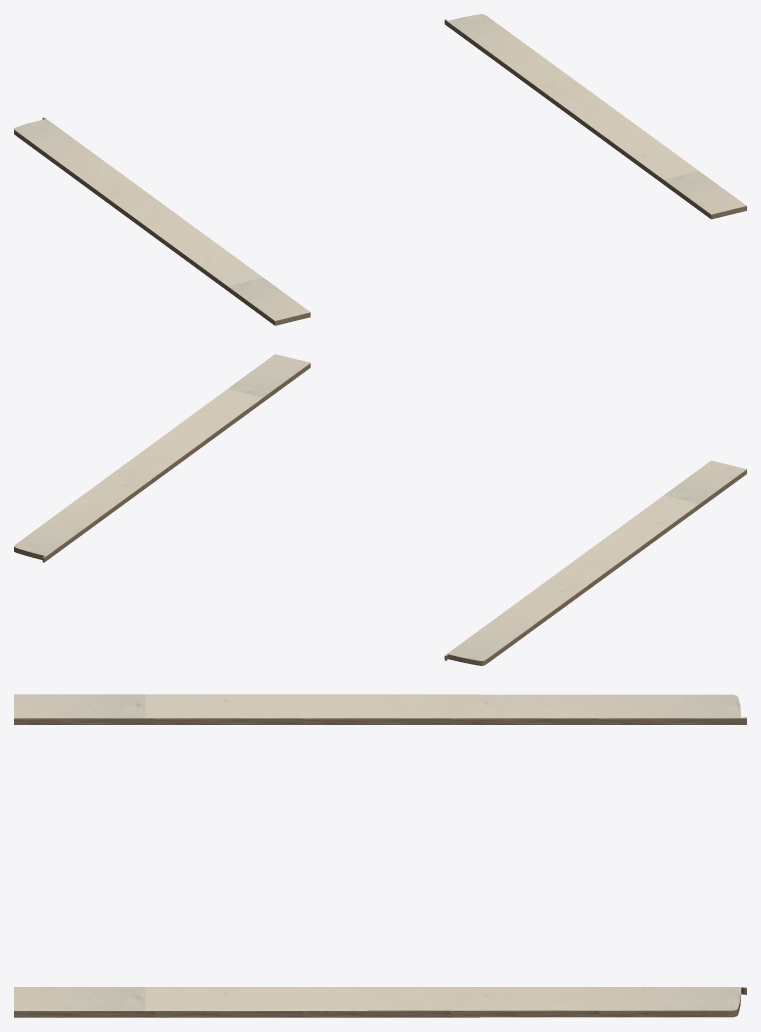
Rendered from lounge-fillers-hexa.glb.
The picture shows the model from 3 angles, top to bottom: view 1: azimuth 30°, elevation 25°; view 2: azimuth 150°, elevation 25°; view 3: azimuth 270°, elevation 25°; orthographic projection. The views are drawn at different scales.
Parts seen in each view (by area): view 1: Bed side filler positive - 115x15mm_1, Bed side filler negative - 115x15mm_1, Bed side filler positive - 115x15mm_0, Bed side filler negative - 115x15mm_0; view 2: Bed side filler positive - 115x15mm_1, Bed side filler negative - 115x15mm_1, Bed side filler negative - 115x15mm_0, Bed side filler positive - 115x15mm_0; view 3: Bed side filler negative - 115x15mm_1, Bed side filler positive - 115x15mm_1, Bed side filler positive - 115x15mm_0, Bed side filler negative - 115x15mm_0.
Boxes of the visible parts, x1=… form: Bed side filler positive - 115x15mm_1: x1=445, y1=14, x2=746, y2=214; Bed side filler negative - 115x15mm_1: x1=14, y1=117, x2=310, y2=320; Bed side filler positive - 115x15mm_0: x1=444, y1=20, x2=746, y2=219; Bed side filler negative - 115x15mm_0: x1=14, y1=118, x2=310, y2=325; Bed side filler positive - 115x15mm_1: x1=14, y1=354, x2=310, y2=557; Bed side filler negative - 115x15mm_1: x1=445, y1=460, x2=746, y2=660; Bed side filler negative - 115x15mm_0: x1=444, y1=469, x2=746, y2=665; Bed side filler positive - 115x15mm_0: x1=14, y1=363, x2=310, y2=562; Bed side filler negative - 115x15mm_1: x1=14, y1=694, x2=746, y2=718; Bed side filler positive - 115x15mm_1: x1=14, y1=987, x2=746, y2=1010; Bed side filler positive - 115x15mm_0: x1=14, y1=987, x2=746, y2=1017; Bed side filler negative - 115x15mm_0: x1=14, y1=718, x2=746, y2=724.
Size of the model in its own units: 1.52 by 0.015 by 1.49.
2 materials, 2 textured.
